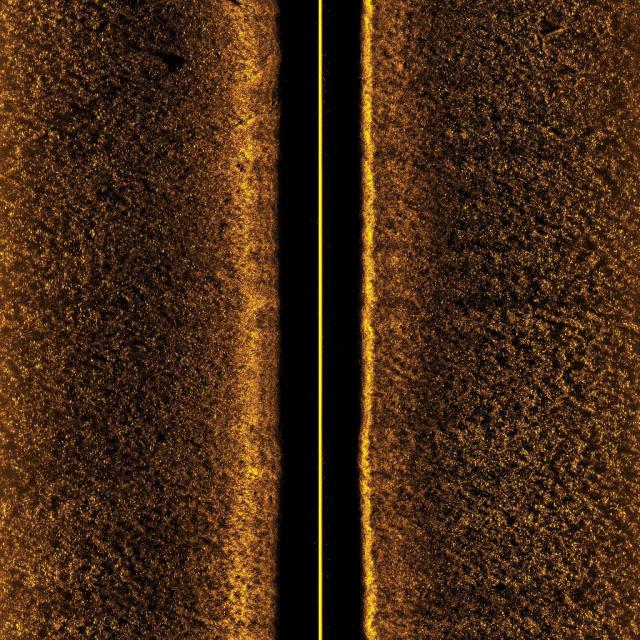mine: (534, 21, 568, 41)
